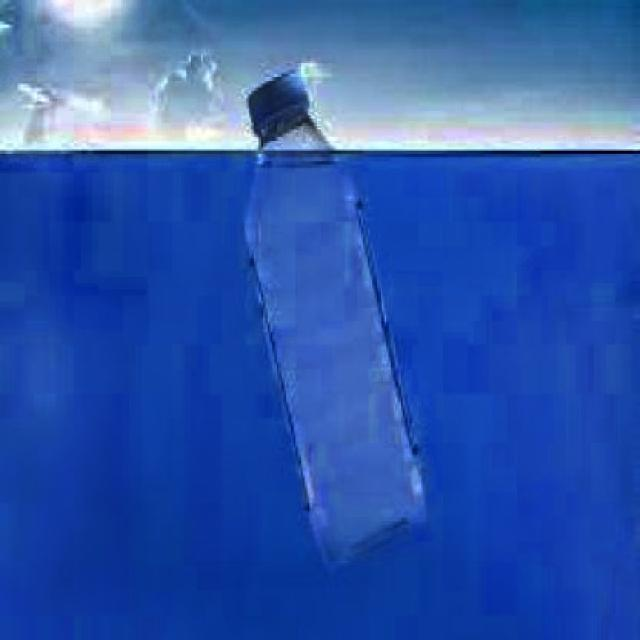pbottle: (229, 66, 433, 563)
